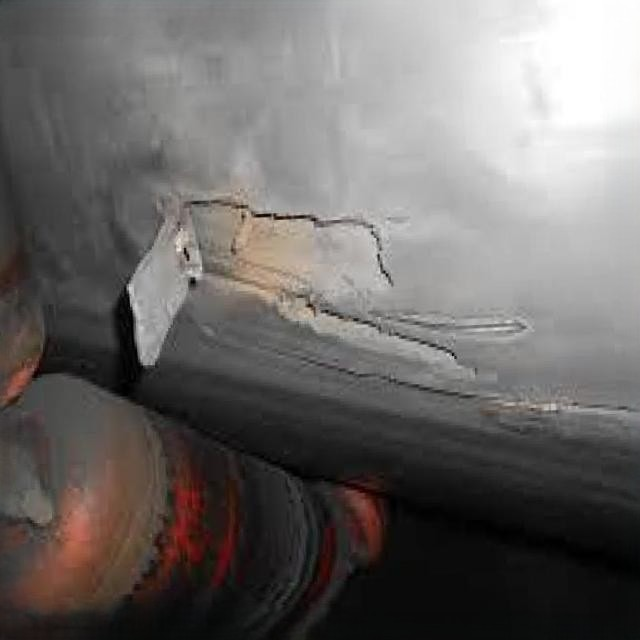Tear: (120, 190, 475, 385)
